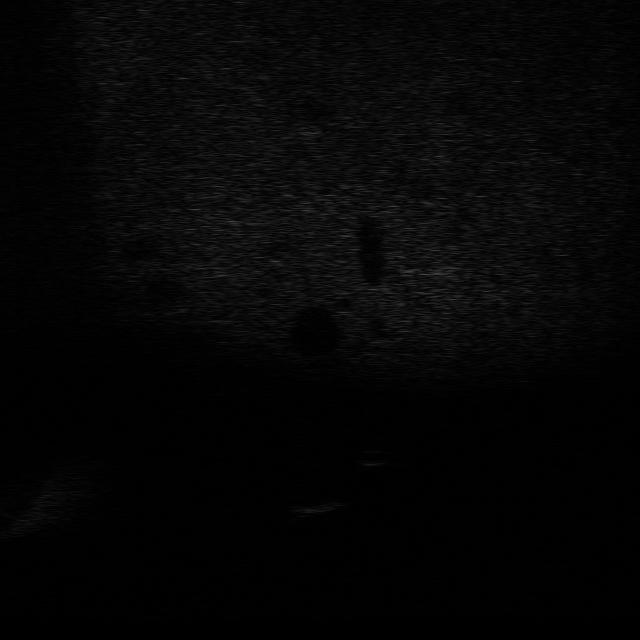ball: (340, 442, 400, 473)
square cage: (280, 492, 352, 528)
